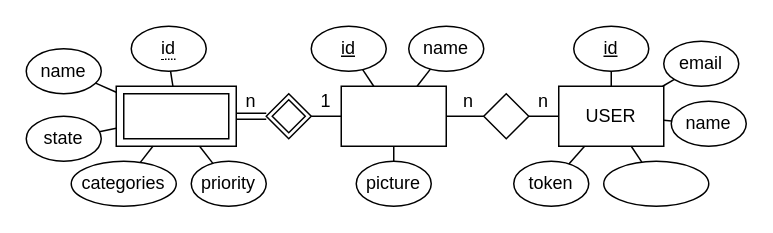
Image size: 773x233. Some labels were removed from this diagram. The centre of each missing label's shape, as x and y in pixels:
LIST: point 393,115
password: point 655,183
PRODUCT: point 175,115
